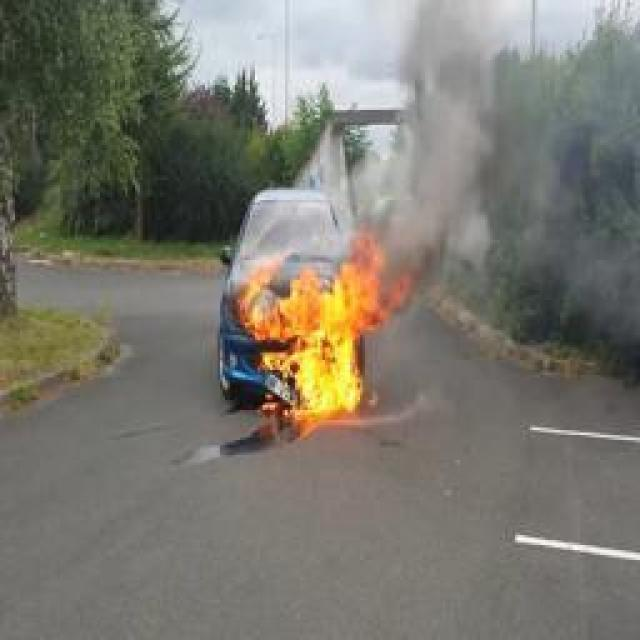Fire: (237, 238, 415, 422)
